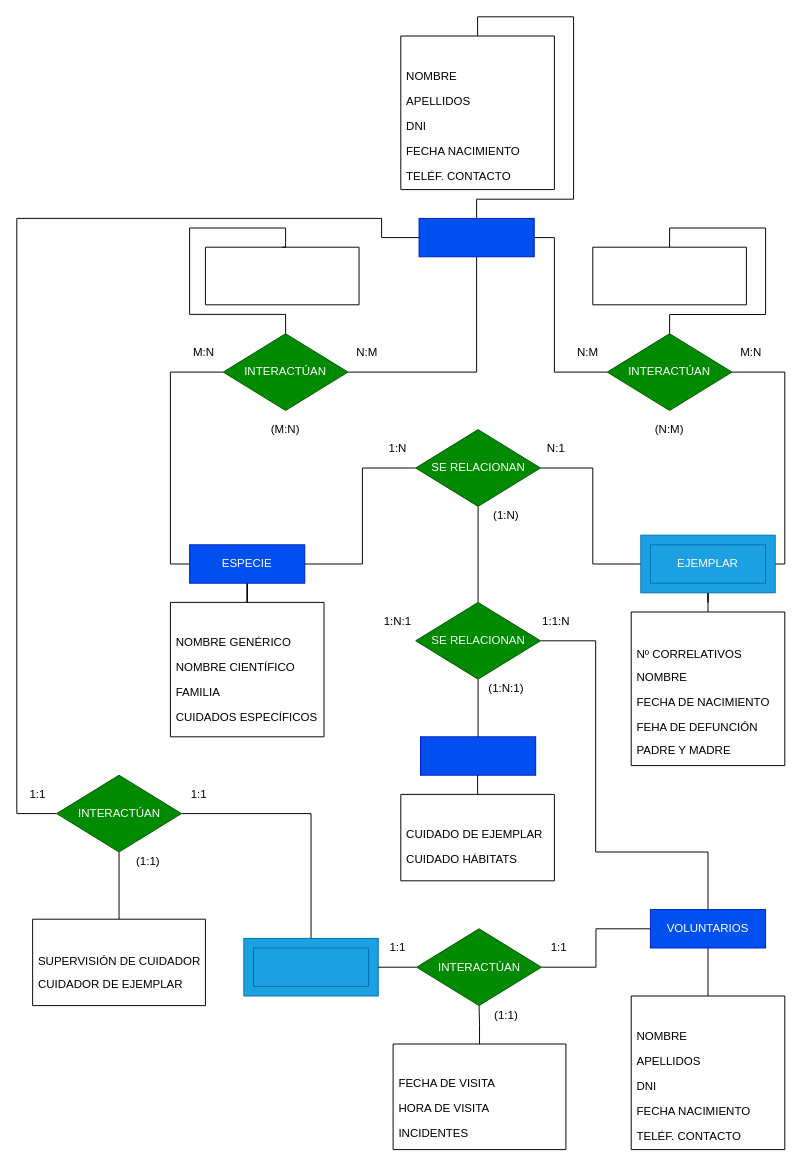
Some shapes in this 803 by 1167 pixel diagram are drawn without their labels. The centre of each missing label's shape, as x and y in pixels:
"CUIDADO" belongs at point 281,275.
"CUIDADOR" belongs at point 476,237.
"HÁBITAT" belongs at point 478,755.
"TIEMPO DE CUIDADO" belongs at point 669,275.
"VISITAS ESPECIALES" belongs at point 310,966.
